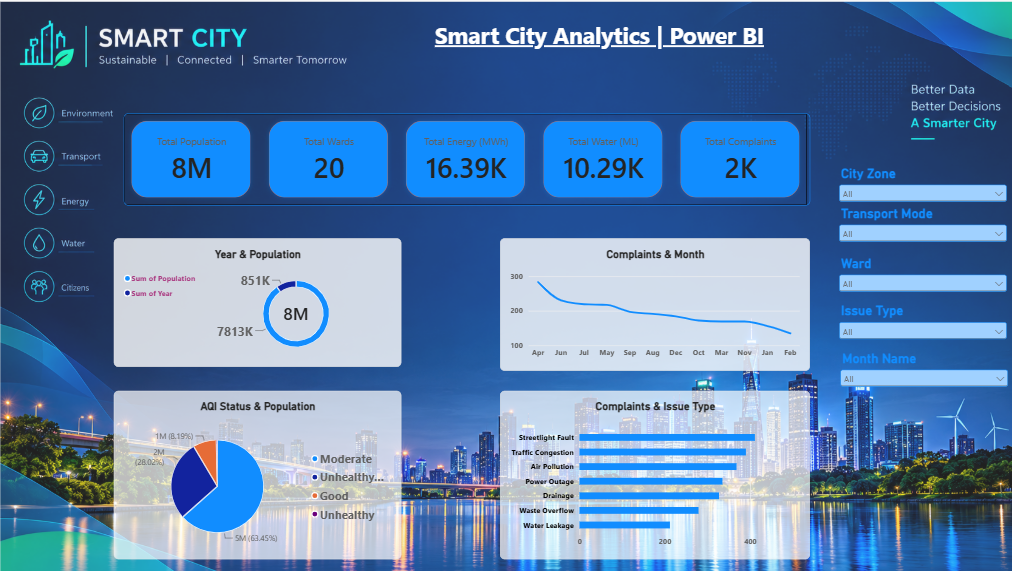

The dashboard page shown, as its layout file describes it:
{"tool":"powerbi","page":{"name":"Page 1","canvas":[1920,1080],"ordinal":0},"visuals":[{"type":"cardVisual","fields":{"Data":["Smart_City_Analytics_Sample_Dataset.Total Population","Smart_City_Analytics_Sample_Dataset.Total Wards","Smart_City_Analytics_Sample_Dataset.Total Energy (MWh)","Smart_City_Analytics_Sample_Dataset.Total Water (ML)","Smart_City_Analytics_Sample_Dataset.Total Complaints"]},"box":[327.3,249.1,1130,152.3],"z":0},{"type":"pieChart","title":"AQI Status & Population","fields":{"Category":["Smart_City_Analytics_Sample_Dataset.AQI Status"],"Y":["Sum(Smart_City_Analytics_Sample_Dataset.Population)"]},"box":[310.8,706,473.4,277.9],"z":1000},{"type":"donutChart","title":"Year &  Population","fields":{"Y":["Sum(Smart_City_Analytics_Sample_Dataset.Population)","Sum(Smart_City_Analytics_Sample_Dataset.Year)"]},"box":[310.8,454.9,473.4,212],"z":2000},{"type":"slicer","fields":{"Values":["Smart_City_Analytics_Sample_Dataset.City_Zone"]},"box":[1500.5,335.5,286.1,65.9],"z":3000},{"type":"slicer","fields":{"Values":["Smart_City_Analytics_Sample_Dataset.Transport_Mode"]},"box":[1500.5,401.4,286.1,65.9],"z":4000},{"type":"slicer","fields":{"Values":["Smart_City_Analytics_Sample_Dataset.Ward"]},"box":[1500.5,483.7,286.1,65.9],"z":5000},{"type":"slicer","fields":{"Values":["Smart_City_Analytics_Sample_Dataset.Issue_Type"]},"box":[1500.5,561.9,286.1,65.9],"z":6000},{"type":"slicer","fields":{"Values":["Smart_City_Analytics_Sample_Dataset.Month Name"]},"box":[1502.6,640.1,286.1,65.9],"z":7000},{"type":"lineChart","title":"Complaints & Month ","fields":{"Category":["Smart_City_Analytics_Sample_Dataset.Month Name"],"Y":["Smart_City_Analytics_Sample_Dataset.Total Complaints"]},"box":[946.8,454.9,510.5,218.2],"z":8000},{"type":"clusteredBarChart","title":"Complaints & Issue Type","fields":{"Category":["Smart_City_Analytics_Sample_Dataset.Issue_Type"],"Y":["Smart_City_Analytics_Sample_Dataset.Total Complaints"]},"box":[946.8,706,510.5,277.9],"z":9000},{"type":"textbox","box":[718.4,76.2,784.2,150.3],"z":10000}]}

Visuals, with their boxes in screenshot pixels (x1, y1, x2, y2), scaled from the page's 1920x1080 canvas onto the 1012x571 screenshot:
cardVisual - Smart_City_Analytics_Sample_Dataset.Total Population x Smart_City_Analytics_Sample_Dataset.Total Wards: select_region(173, 132, 768, 212)
"AQI Status & Population" pieChart: select_region(164, 373, 413, 520)
"Year &  Population" donutChart: select_region(164, 241, 413, 353)
slicer - Smart_City_Analytics_Sample_Dataset.City_Zone: select_region(791, 177, 942, 212)
slicer - Smart_City_Analytics_Sample_Dataset.Transport_Mode: select_region(791, 212, 942, 247)
slicer - Smart_City_Analytics_Sample_Dataset.Ward: select_region(791, 256, 942, 291)
slicer - Smart_City_Analytics_Sample_Dataset.Issue_Type: select_region(791, 297, 942, 332)
slicer - Smart_City_Analytics_Sample_Dataset.Month Name: select_region(792, 338, 943, 373)
"Complaints & Month " lineChart: select_region(499, 241, 768, 356)
"Complaints & Issue Type" clusteredBarChart: select_region(499, 373, 768, 520)
textbox: select_region(379, 40, 792, 120)
